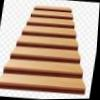Bench: (0, 0, 97, 95)
